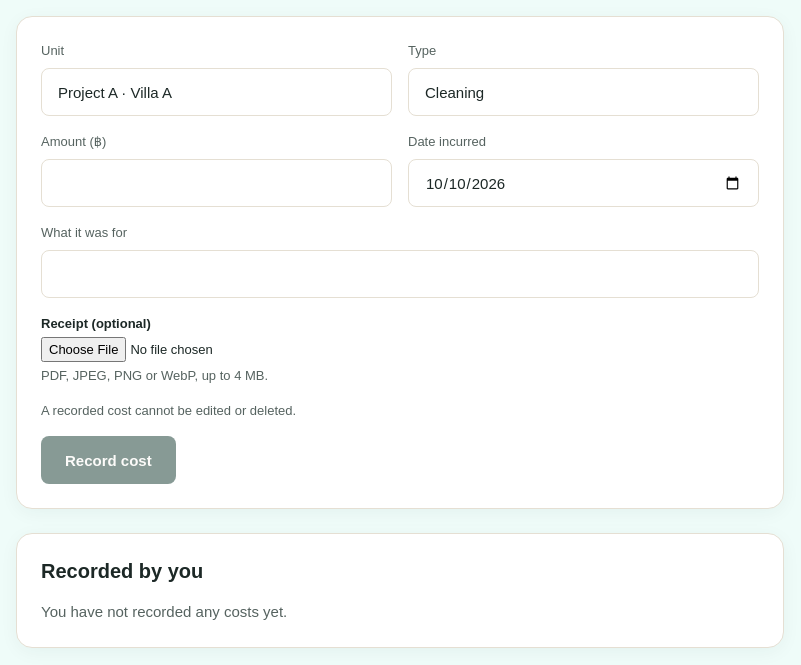
Test case: RecordCostClient › keeps the key after a validation or permission failure that wrote nothing, and keeps the fields
Type "1250.50" into the field labelled "Amount (฿)" at (216, 183), box [41,159,392,207]
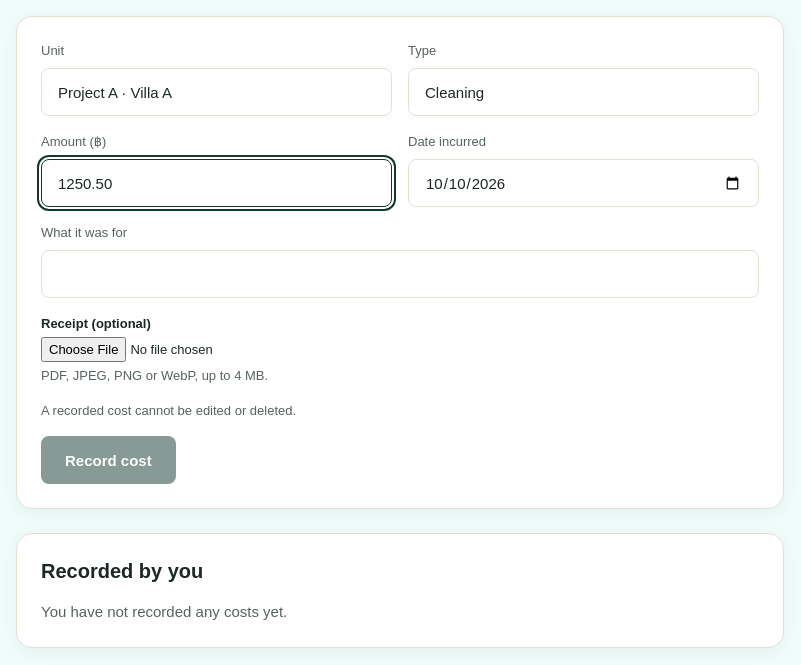
Type "Deep clean" into the field labelled "What it was for" at (400, 274), box [41,250,759,298]
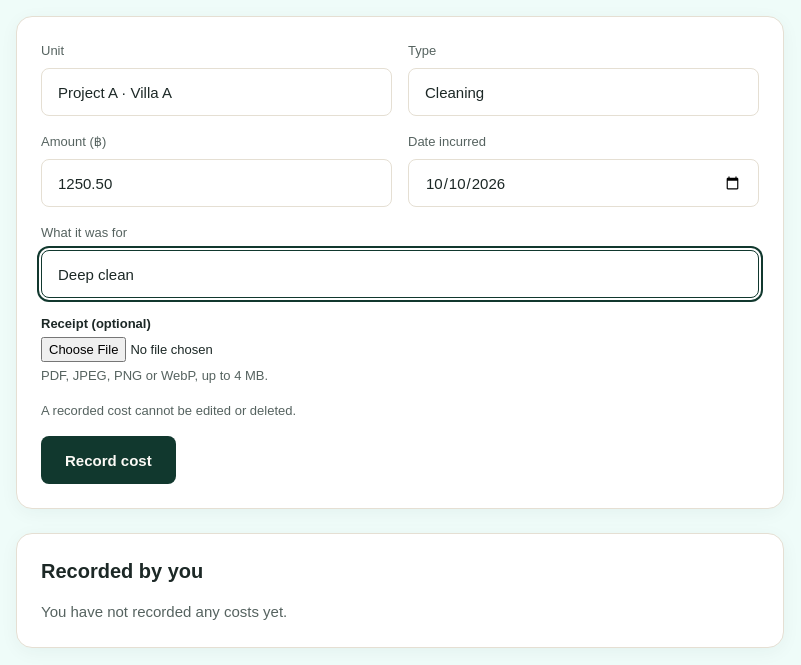
Click the button "Record cost" at (108, 460), box [41,436,176,484]
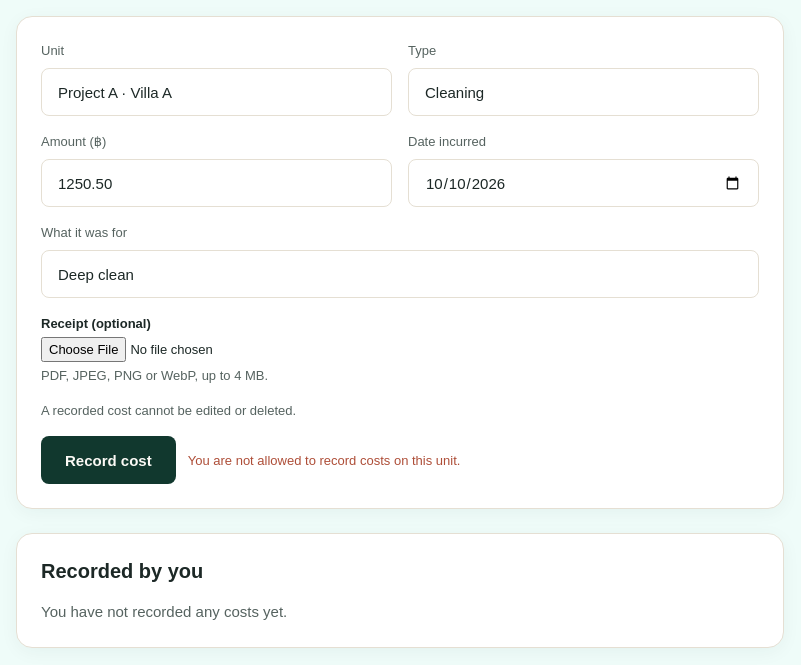
Check: the message reads "You are not allowed to record costs on this unit.", box [188,452,460,468]
